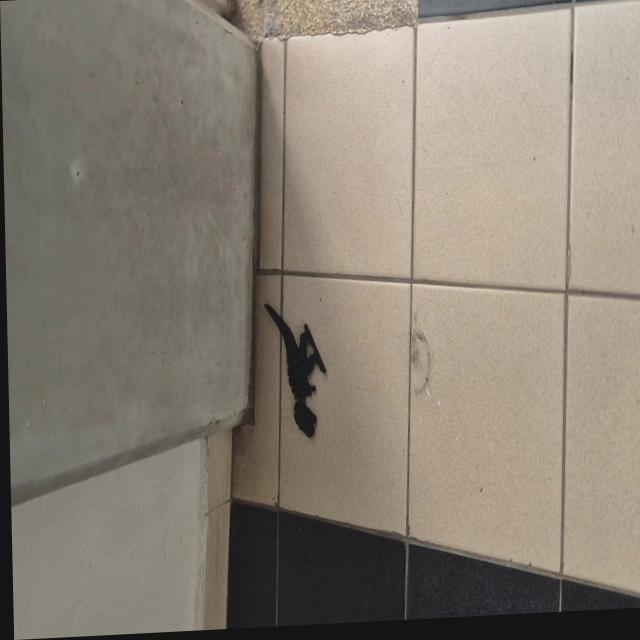dino: (264, 298, 329, 440)
